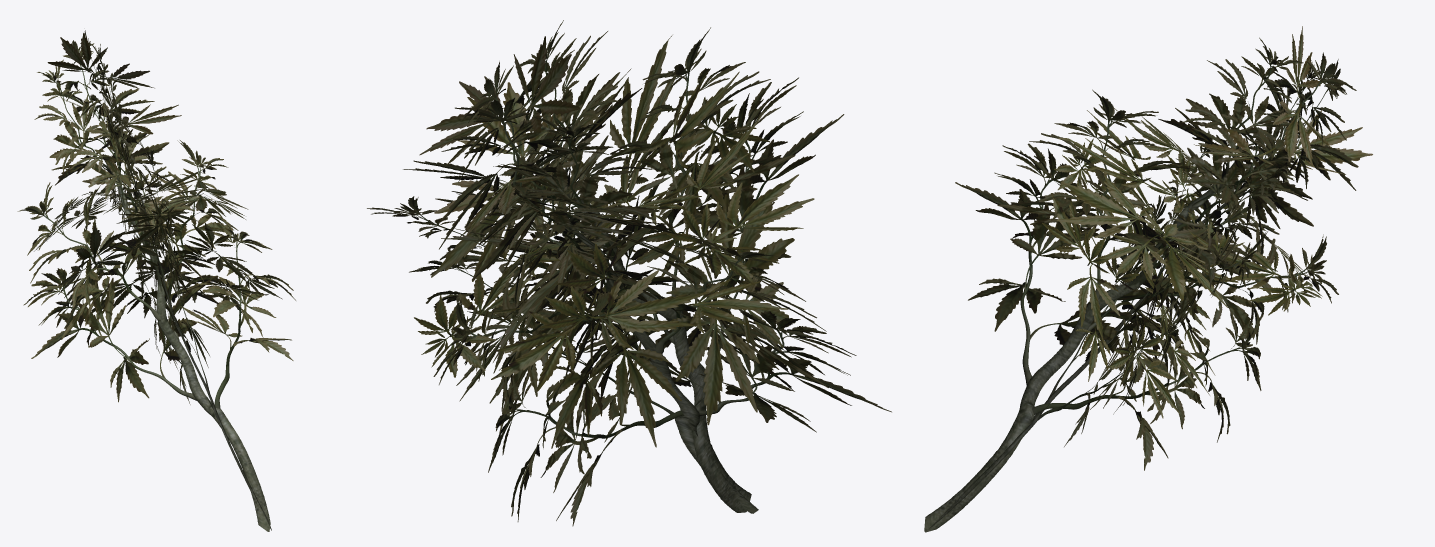
The model's file is TI_Bush_01_Branch_01.fbx.
3 renders of one model, left to right at view 1: azimuth 30°, elevation 25°; view 2: azimuth 150°, elevation 25°; view 3: azimuth 270°, elevation 25°, orthographic. The views are drawn at different scales.
Parts seen in each view (by area): view 1: TI_Bush_01_Branch_01; view 2: TI_Bush_01_Branch_01; view 3: TI_Bush_01_Branch_01.
Part boxes in pixels (box(x1,y1,x2,y2)): TI_Bush_01_Branch_01: box(17, 30, 295, 531); TI_Bush_01_Branch_01: box(367, 20, 891, 526); TI_Bush_01_Branch_01: box(924, 26, 1372, 532).
Bounding box in the file's own units: 1.26 × 1.76 × 1.6.
